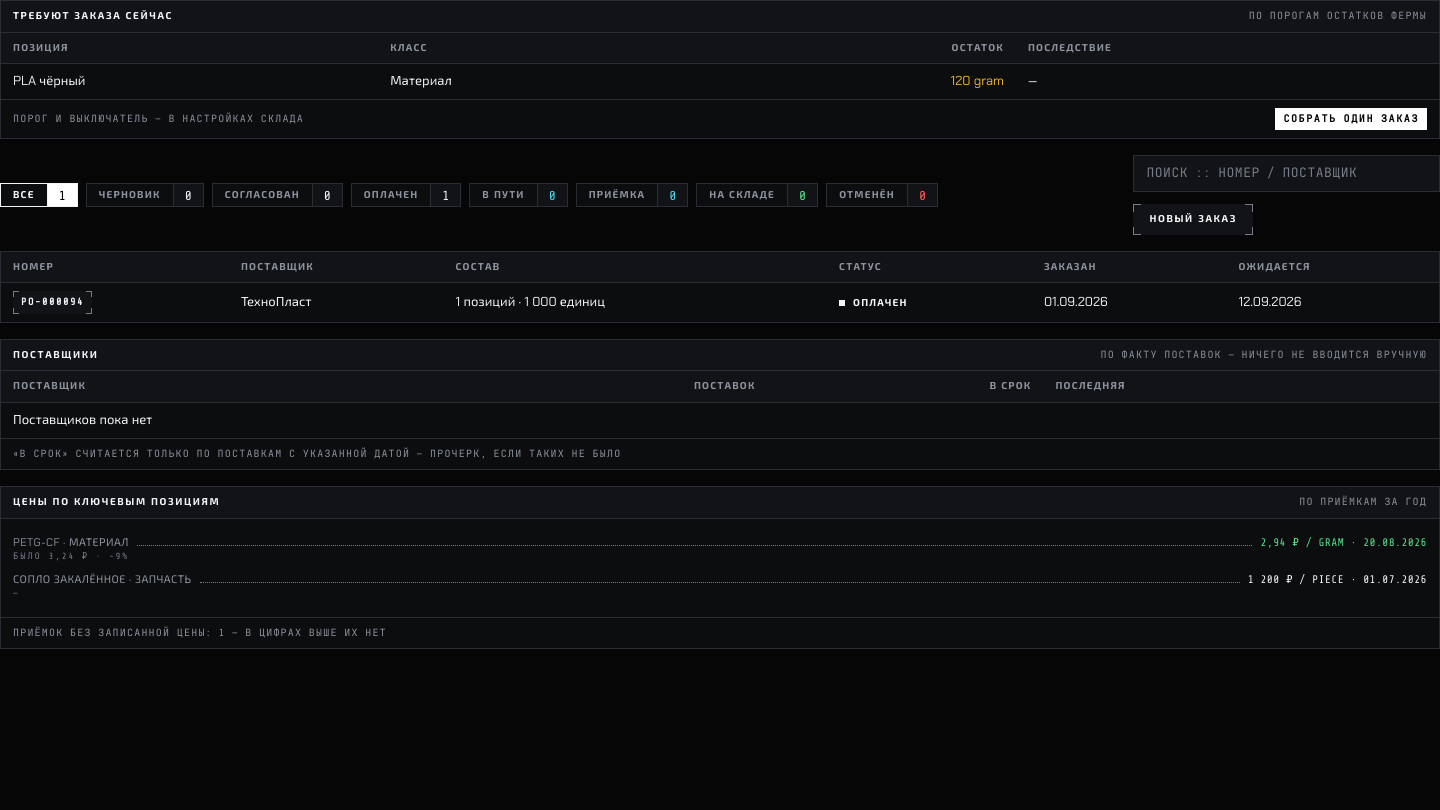
Test: one order › requests its detail and marks the stage it is on
Click the button "PO-000094" at [52, 302], box [13,291,92,314]
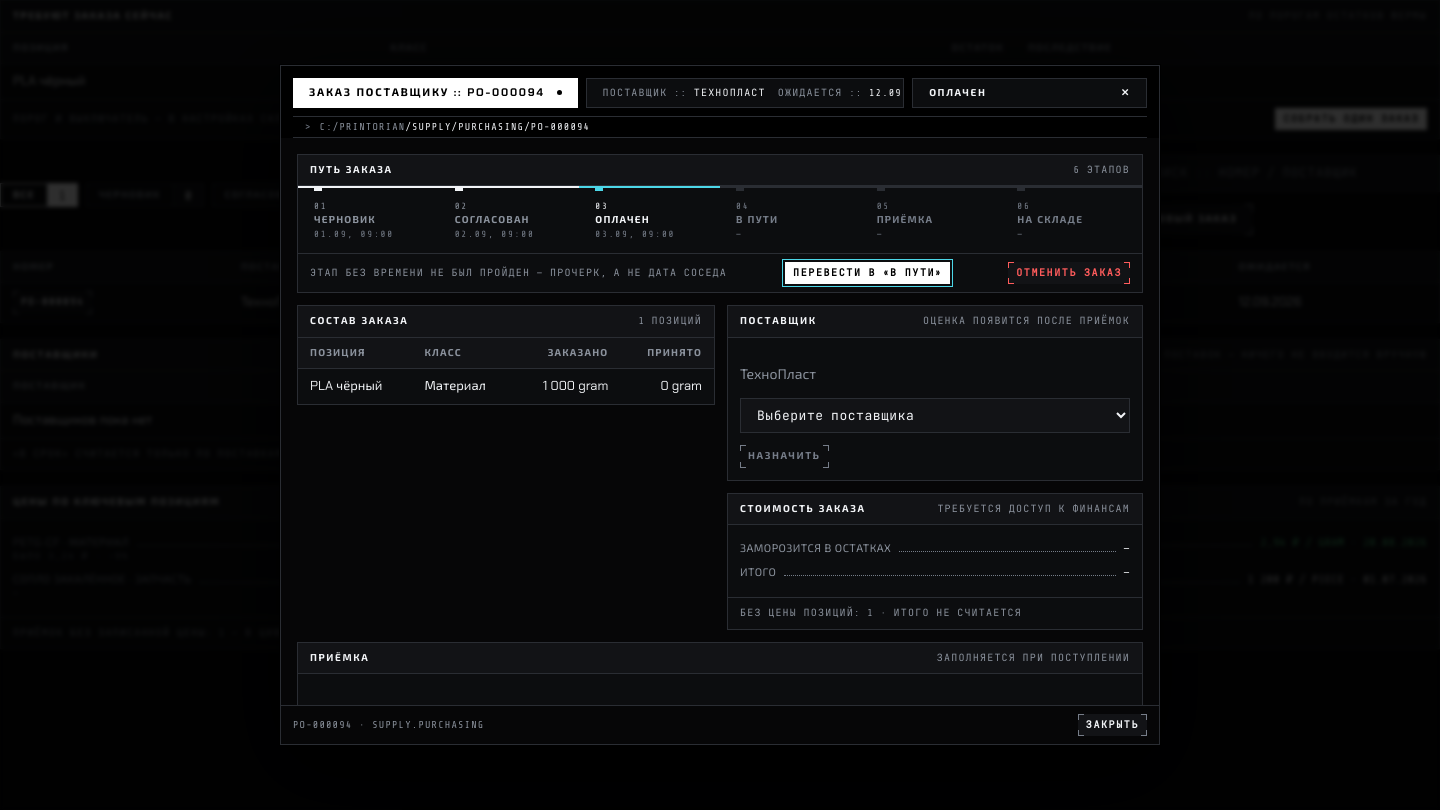
Expected: the element with class "hv-pipe__step" shows "—", [736,229,743,239]
Result: the text "Путь заказа" is shown at [310,163,393,177]
Result: the element with class "hv-pipe__step" shows "Оплачен" at [595,213,650,226]
